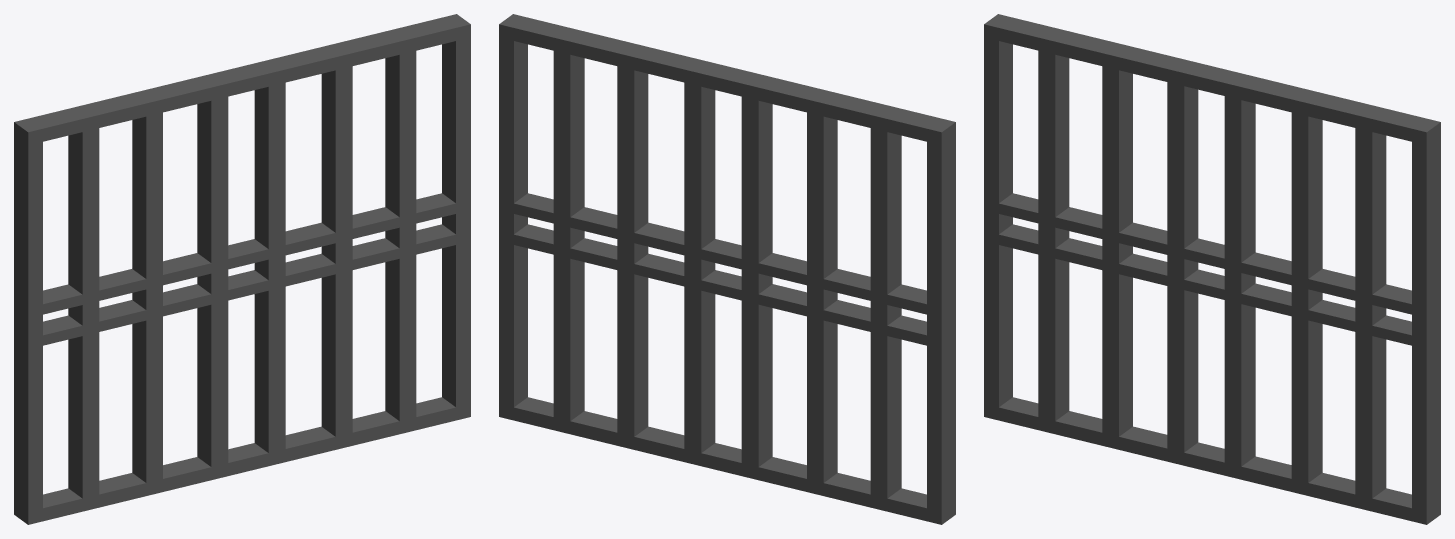
Rendered from Reja (con FBX).fbx.
3 views of the same model, side by side, from view 1: azimuth 30°, elevation 25°; view 2: azimuth 150°, elevation 25°; view 3: azimuth 330°, elevation 25° (orthographic).
Parts seen in each view (by area): view 1: pCube2; view 2: pCube2; view 3: pCube2.
Boxes of the visible parts, x1=… form: pCube2: x1=14, y1=14, x2=470, y2=524; pCube2: x1=499, y1=14, x2=955, y2=524; pCube2: x1=984, y1=14, x2=1440, y2=524.
Size of the model in its own units: 5.9 by 5 by 0.325.
